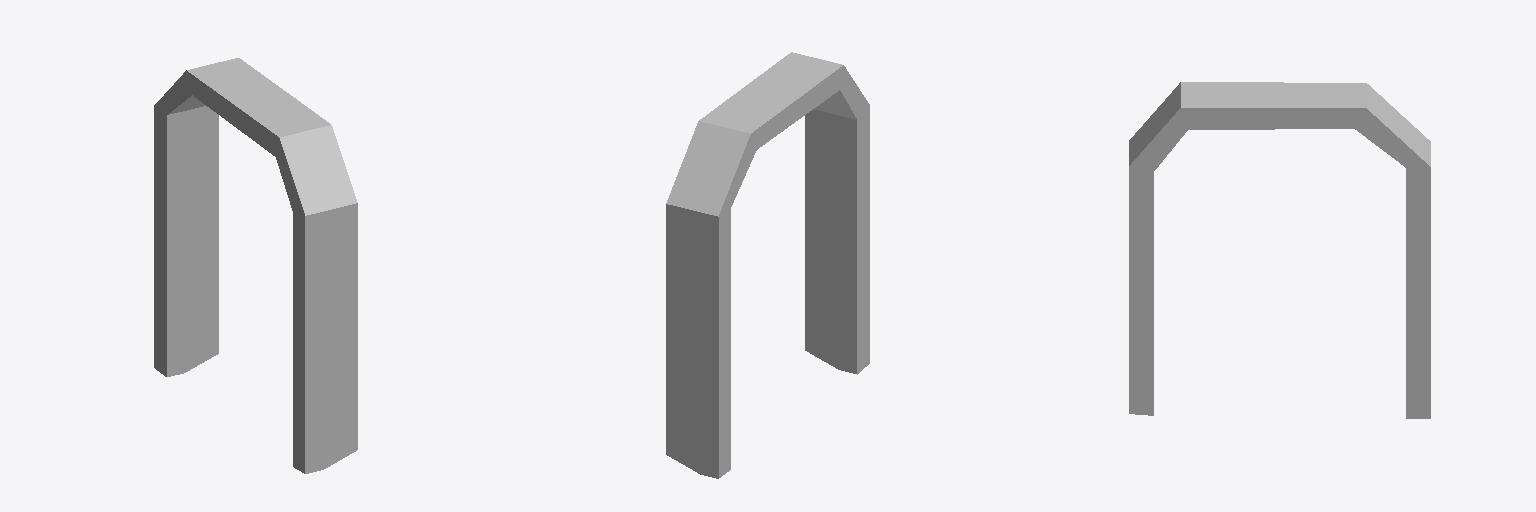
Rendered from Arch5.obj.
3 views of the same model, side by side, from view 1: azimuth 30°, elevation 25°; view 2: azimuth 150°, elevation 25°; view 3: azimuth 270°, elevation 25° (orthographic).
Visible parts, largest first — view 1: Arch5; view 2: Arch5; view 3: Arch5.
Part boxes in pixels (x1,y1,x2,y2): Arch5: (154,58,357,473); Arch5: (666,52,869,478); Arch5: (1129,82,1430,418).
Bounding box in the file's own units: 0.6756 × 3.97 × 3.38.